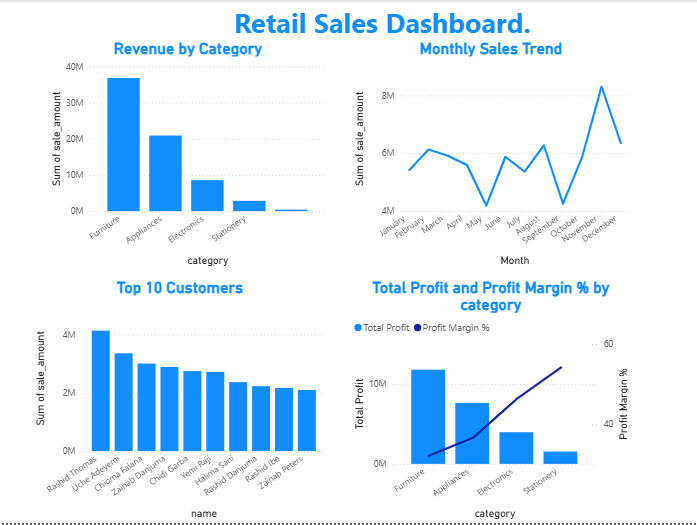

The dashboard page shown, as its layout file describes it:
{"tool":"powerbi","page":{"name":"Page 1","canvas":[1280,720],"ordinal":0},"visuals":[{"type":"clusteredColumnChart","title":"Revenue by Category","fields":{"Category":["products.category"],"Y":["Sum(orders.sale_amount)"]},"box":[174.8,53.7,388.1,317.9],"z":0},{"type":"lineChart","title":"Monthly Sales Trend","fields":{"Category":["orders.order_date.Variation.Date Hierarchy.Month","orders.order_date.Variation.Date Hierarchy.Day"],"Y":["Sum(orders.sale_amount)"]},"box":[591.8,53.7,388.1,317.9],"z":1000},{"type":"clusteredColumnChart","title":"Top 10 Customers","fields":{"Category":["customers.name"],"Y":["Sum(orders.sale_amount)"]},"box":[152.8,382.6,410.2,337.2],"z":1001},{"type":"lineClusteredColumnComboChart","fields":{"Category":["products.category"],"Y":["orders.Total Profit"],"Y2":["orders.Profit Margin %"]},"box":[591.8,382.6,388.1,337.2],"z":1002},{"type":"textbox","box":[0,0,1280,53.7],"z":1003}]}

Visuals, with their boxes on the page's 1280x720 design canvas (x1, y1, x2, y2). These are canvas units, not pixel positions in the 697x525 screenshot, which may show the page scaled, cropped or inside an application window:
"Revenue by Category" clusteredColumnChart: 175/54/563/372
"Monthly Sales Trend" lineChart: 592/54/980/372
"Top 10 Customers" clusteredColumnChart: 153/383/563/720
lineClusteredColumnComboChart - products.category x orders.Total Profit: 592/383/980/720
textbox: 0/0/1280/54
